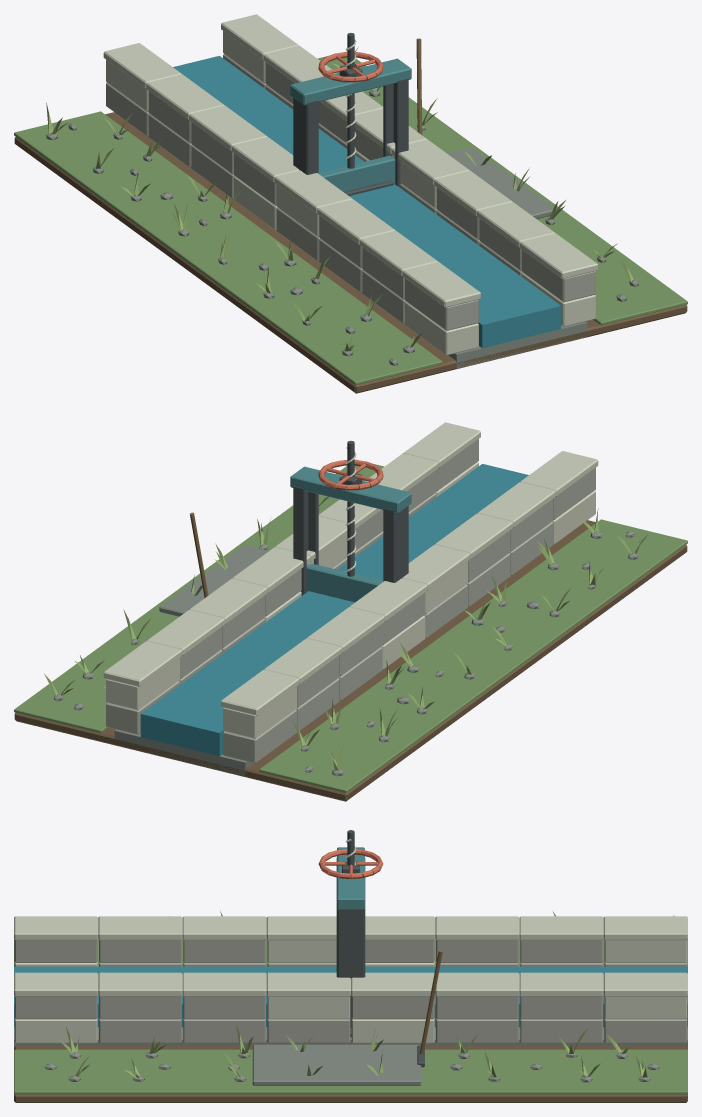
File: irrigation-channel.glb
3 renders of one model, top to bottom at view 1: azimuth 30°, elevation 25°; view 2: azimuth 150°, elevation 25°; view 3: azimuth 270°, elevation 25°, orthographic.
Visible parts, largest first — view 1: Foundation_mesh, ChannelWall_mesh, WaterSurface.001_mesh, ChannelWall.002_mesh, ChannelWall.007_mesh, ChannelWall.001_mesh, ChannelWall.003_mesh, SluiceFrame_mesh, ChannelWall.006_mesh, WaterSurface_mesh, ChannelWall.005_mesh, ChannelWall.004_mesh (+8 smaller); view 2: Foundation_mesh, WaterSurface_mesh, ChannelWall.007_mesh, ChannelWall.005_mesh, ChannelWall_mesh, ChannelWall.006_mesh, ChannelWall.004_mesh, SluiceFrame_mesh, ChannelWall.001_mesh, WaterSurface.001_mesh, ChannelWall.002_mesh, ChannelWall.003_mesh (+8 smaller); view 3: Foundation_mesh, ChannelWall.007_mesh, ChannelWall_mesh, ChannelWall.001_mesh, ChannelWall.006_mesh, ChannelWall.002_mesh, ChannelWall.005_mesh, ChannelWall.003_mesh, ChannelWall.004_mesh, Maintenance_mesh, SluiceFrame_mesh, WaterSurface.001_mesh (+5 smaller).
Boxes of the visible parts, box(x1,y1,x2,y2) form: Foundation_mesh: box(14, 51, 687, 393); ChannelWall_mesh: box(402, 233, 598, 355); WaterSurface.001_mesh: box(349, 183, 561, 348); ChannelWall.002_mesh: box(317, 170, 512, 292); ChannelWall.007_mesh: box(103, 14, 298, 136); ChannelWall.001_mesh: box(360, 202, 555, 323); ChannelWall.003_mesh: box(274, 139, 469, 261); SluiceFrame_mesh: box(290, 58, 411, 187); ChannelWall.006_mesh: box(146, 45, 336, 167); WaterSurface_mesh: box(173, 56, 363, 172); ChannelWall.005_mesh: box(189, 91, 383, 198); ChannelWall.004_mesh: box(232, 108, 426, 230); Foundation_mesh: box(14, 459, 687, 801); WaterSurface_mesh: box(140, 591, 354, 756); ChannelWall.007_mesh: box(103, 641, 299, 763); ChannelWall.005_mesh: box(189, 578, 384, 700); ChannelWall_mesh: box(403, 422, 598, 544); ChannelWall.006_mesh: box(146, 610, 341, 730); ChannelWall.004_mesh: box(232, 547, 427, 669); SluiceFrame_mesh: box(290, 466, 411, 595); ChannelWall.001_mesh: box(365, 453, 555, 575); WaterSurface.001_mesh: box(338, 464, 528, 580); ChannelWall.002_mesh: box(318, 499, 512, 606); ChannelWall.003_mesh: box(275, 516, 469, 638); Foundation_mesh: box(14, 939, 687, 1102); ChannelWall.007_mesh: box(603, 916, 687, 1043); ChannelWall_mesh: box(14, 916, 98, 1043); ChannelWall.001_mesh: box(98, 916, 182, 1043); ChannelWall.006_mesh: box(519, 916, 603, 1043); ChannelWall.002_mesh: box(182, 916, 266, 1043); ChannelWall.005_mesh: box(435, 916, 519, 1043); ChannelWall.003_mesh: box(266, 916, 350, 1043); ChannelWall.004_mesh: box(351, 916, 435, 1043); Maintenance_mesh: box(252, 950, 442, 1085); SluiceFrame_mesh: box(336, 847, 365, 1037); WaterSurface.001_mesh: box(14, 966, 336, 1027).
Size of the model in its own units: 2.7 by 1.51 by 4.8.
